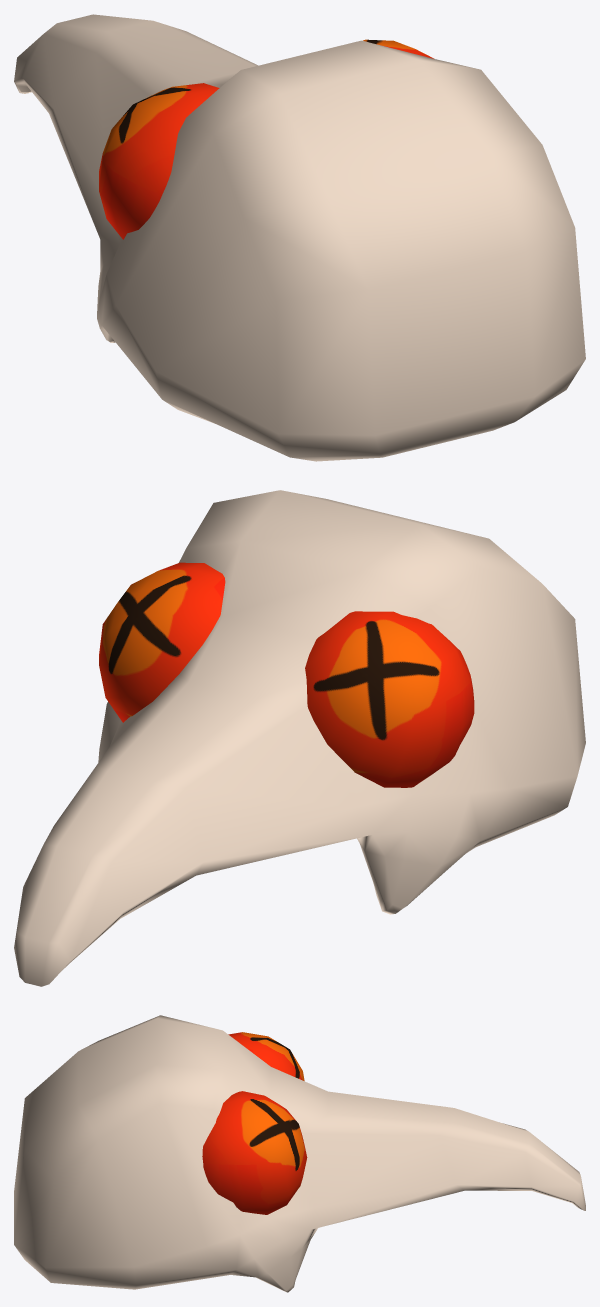
The model's file is lvl3_helmet.fbx.
The picture shows the model from 3 angles, top to bottom: view 1: azimuth 30°, elevation 25°; view 2: azimuth 150°, elevation 25°; view 3: azimuth 270°, elevation 25°; orthographic projection. The views are drawn at different scales.
Parts seen in each view (by area): view 1: helmet; view 2: helmet; view 3: helmet.
Boxes of the visible parts, bbox=[...] form: helmet: bbox=[14, 14, 585, 461]; helmet: bbox=[14, 490, 585, 986]; helmet: bbox=[14, 1015, 585, 1292].
Size of the model in its own units: 27.08 by 18.62 by 46.96.
